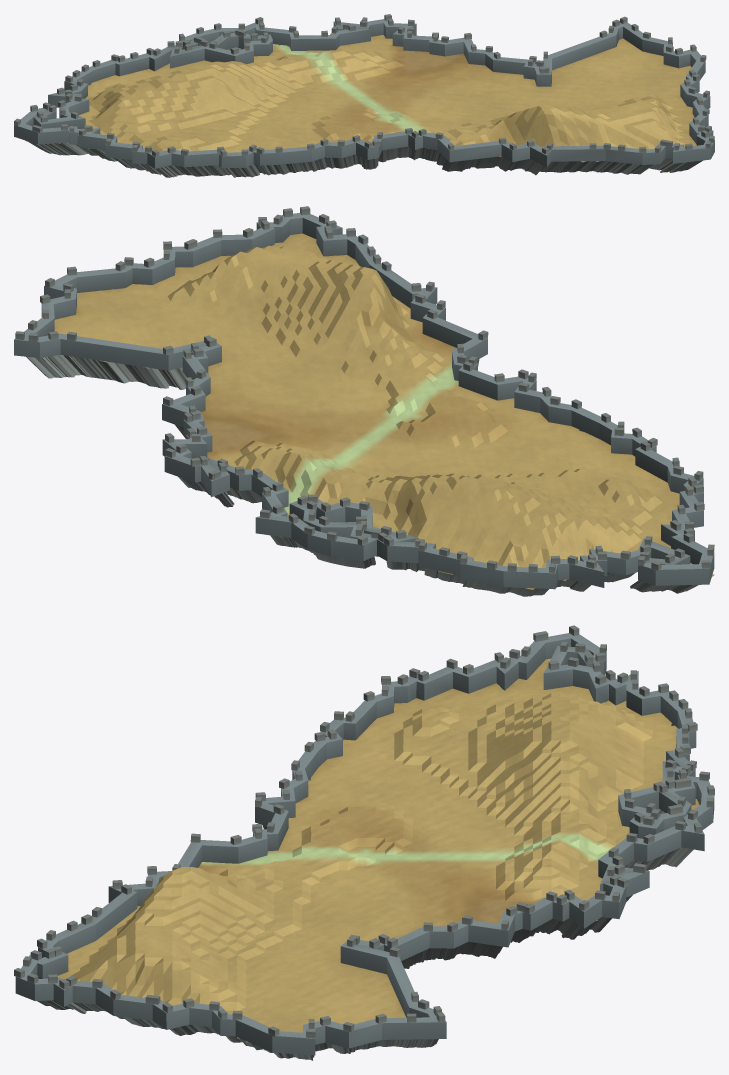
The picture shows the model from 3 angles, top to bottom: view 1: azimuth 30°, elevation 25°; view 2: azimuth 150°, elevation 25°; view 3: azimuth 270°, elevation 25°; orthographic projection. The views are drawn at different scales.
Parts seen in each view (by area): view 1: ground_14867c7f; view 2: ground_14867c7f; view 3: ground_14867c7f.
Part boxes in pixels (x1,y1,x2,y2): ground_14867c7f: [14, 14, 714, 177]; ground_14867c7f: [14, 206, 714, 596]; ground_14867c7f: [14, 625, 714, 1060].
Size of the model in its own units: 157 by 12.63 by 114.
2 materials, 1 textured.
